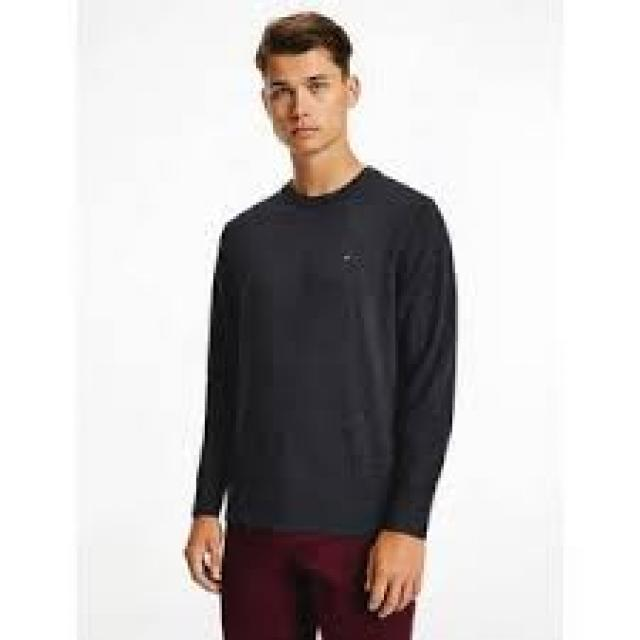plain: (193, 163, 458, 538)
